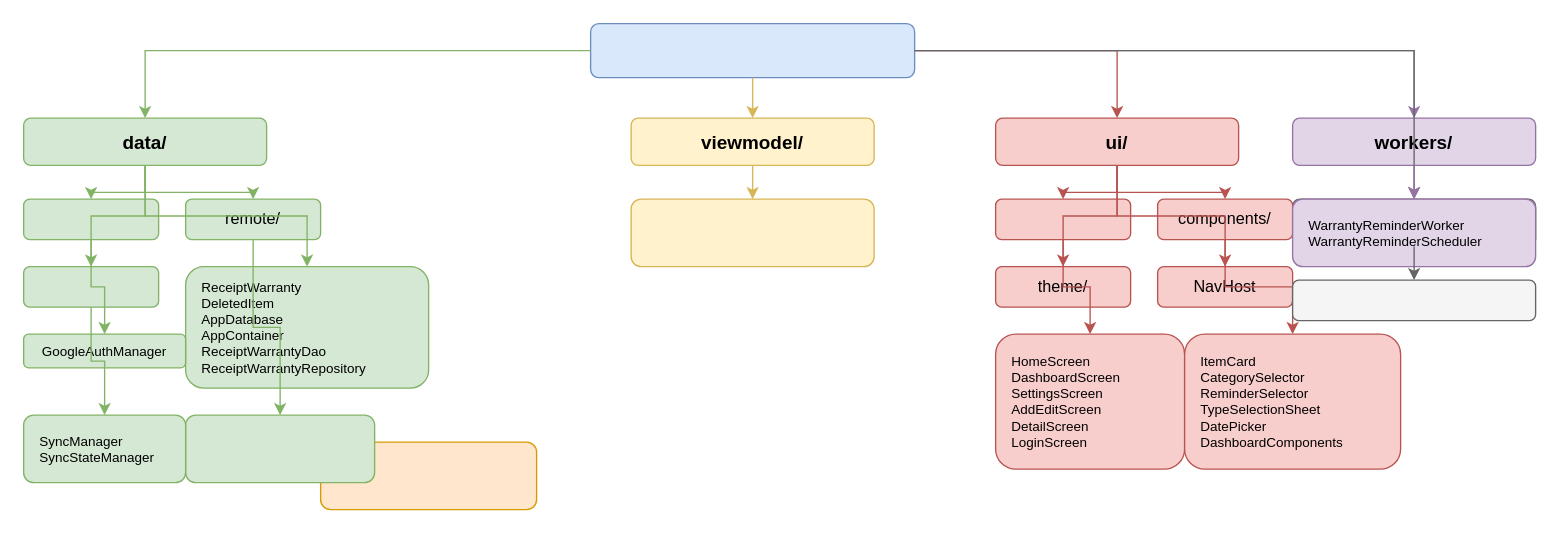
Image size: 1559x533. Some labels were removed from this diagram. The shapes that lost their labels are listed below. From the top down, each one's centre as x and y in pixels, then its label:
At (752,50): "com.receiptwarranty.app".
At (90,219): "auth/".
At (752,232): "ReceiptWarrantyViewModel AuthViewModel".
At (1062,219): "screens/".
At (90,286): "sync/".
At (1413,300): "ImageFileManager".
At (279,448): "FirestoreRepository DriveStorageManager FirestoreModels".
At (428,475): "MainActivity ReceiptWarrantyApp".
